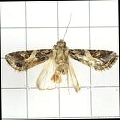Spodoptera litura: (4, 12, 119, 94)
